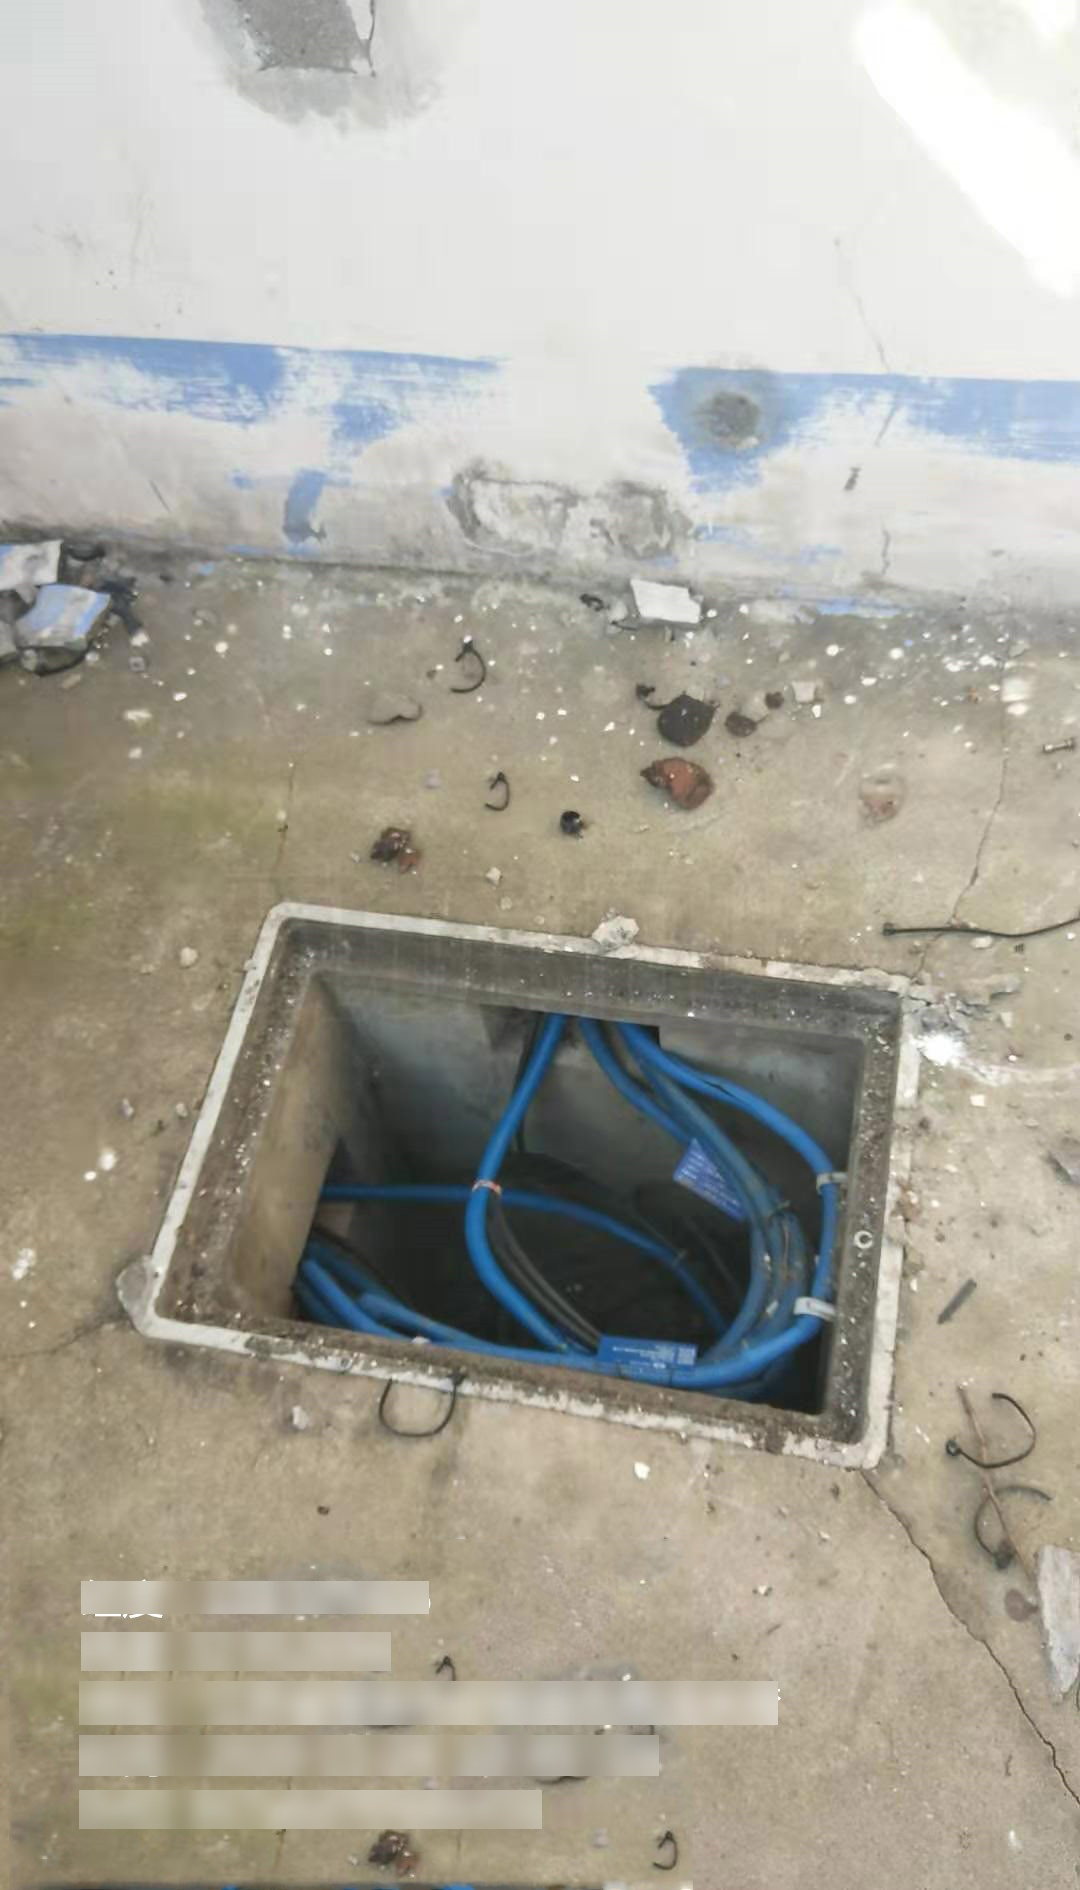lose: (132, 897, 924, 1472)
